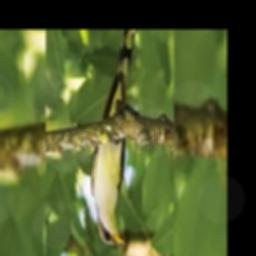Cuckoo: (91, 29, 135, 246)
